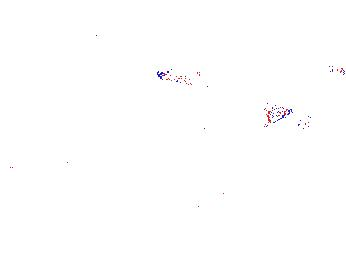glassfish: (187, 103, 292, 132)
red belly glassfish: (295, 109, 325, 131), (315, 66, 346, 80)
redtail glassfish: (155, 65, 210, 92)
